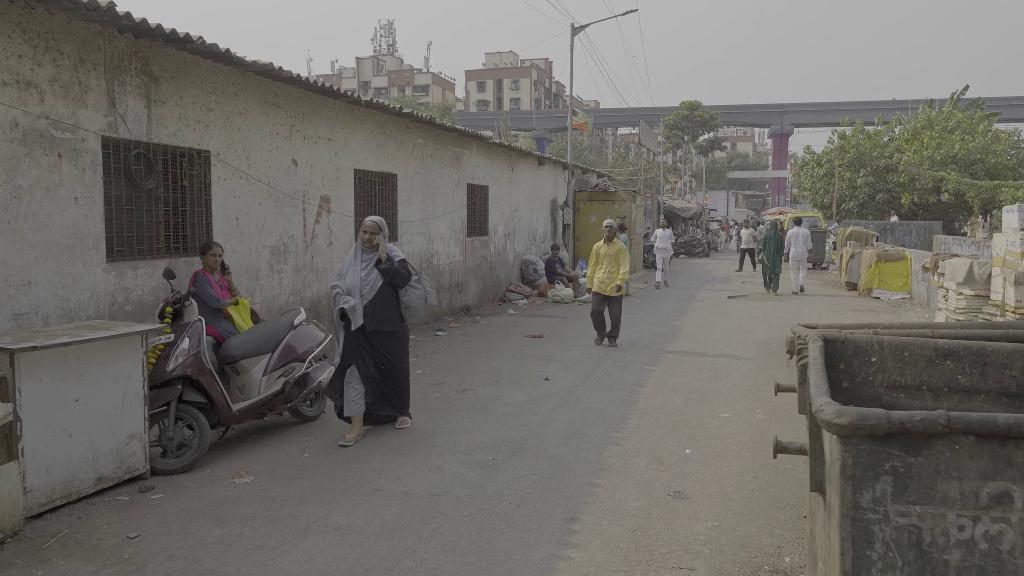garbage: (433, 330, 448, 338)
